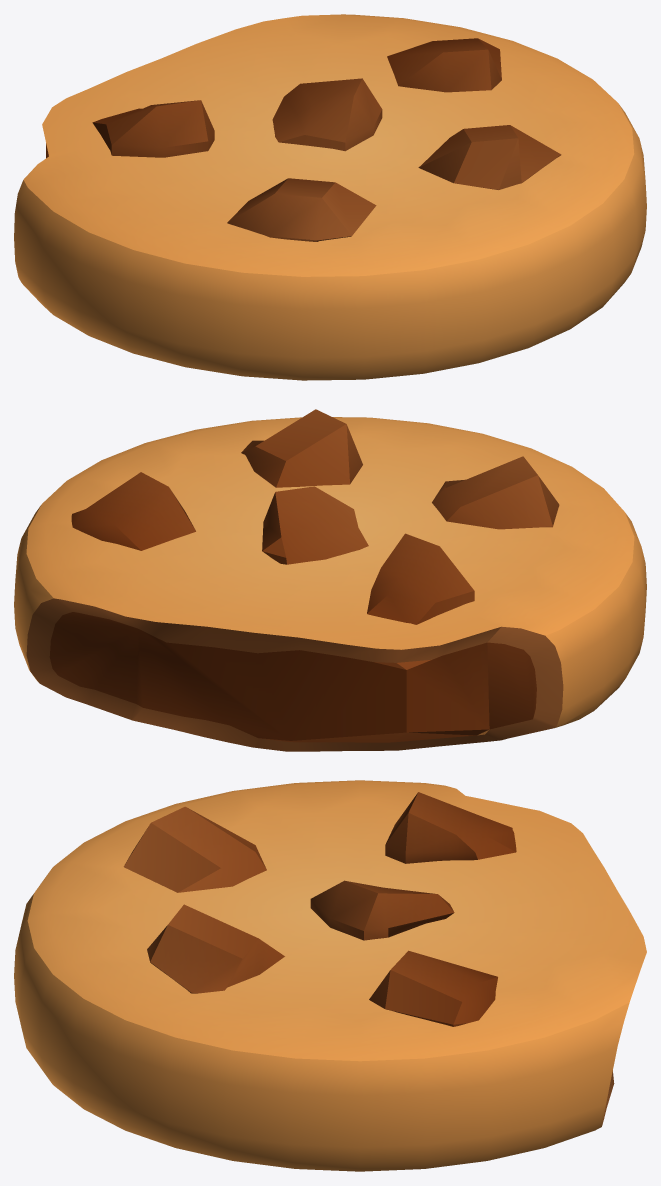
Rendered from Cookie.fbx.
3 renders of one model, top to bottom at view 1: azimuth 30°, elevation 25°; view 2: azimuth 150°, elevation 25°; view 3: azimuth 270°, elevation 25°, orthographic. The views are drawn at different scales.
Visible parts, largest first — view 1: Cookie; view 2: Cookie; view 3: Cookie.
Boxes of the visible parts, x1=… form: Cookie: x1=14, y1=14, x2=646, y2=380; Cookie: x1=14, y1=409, x2=646, y2=751; Cookie: x1=14, y1=780, x2=646, y2=1171.
Size of the model in its own units: 17.73 by 5.07 by 16.22.
